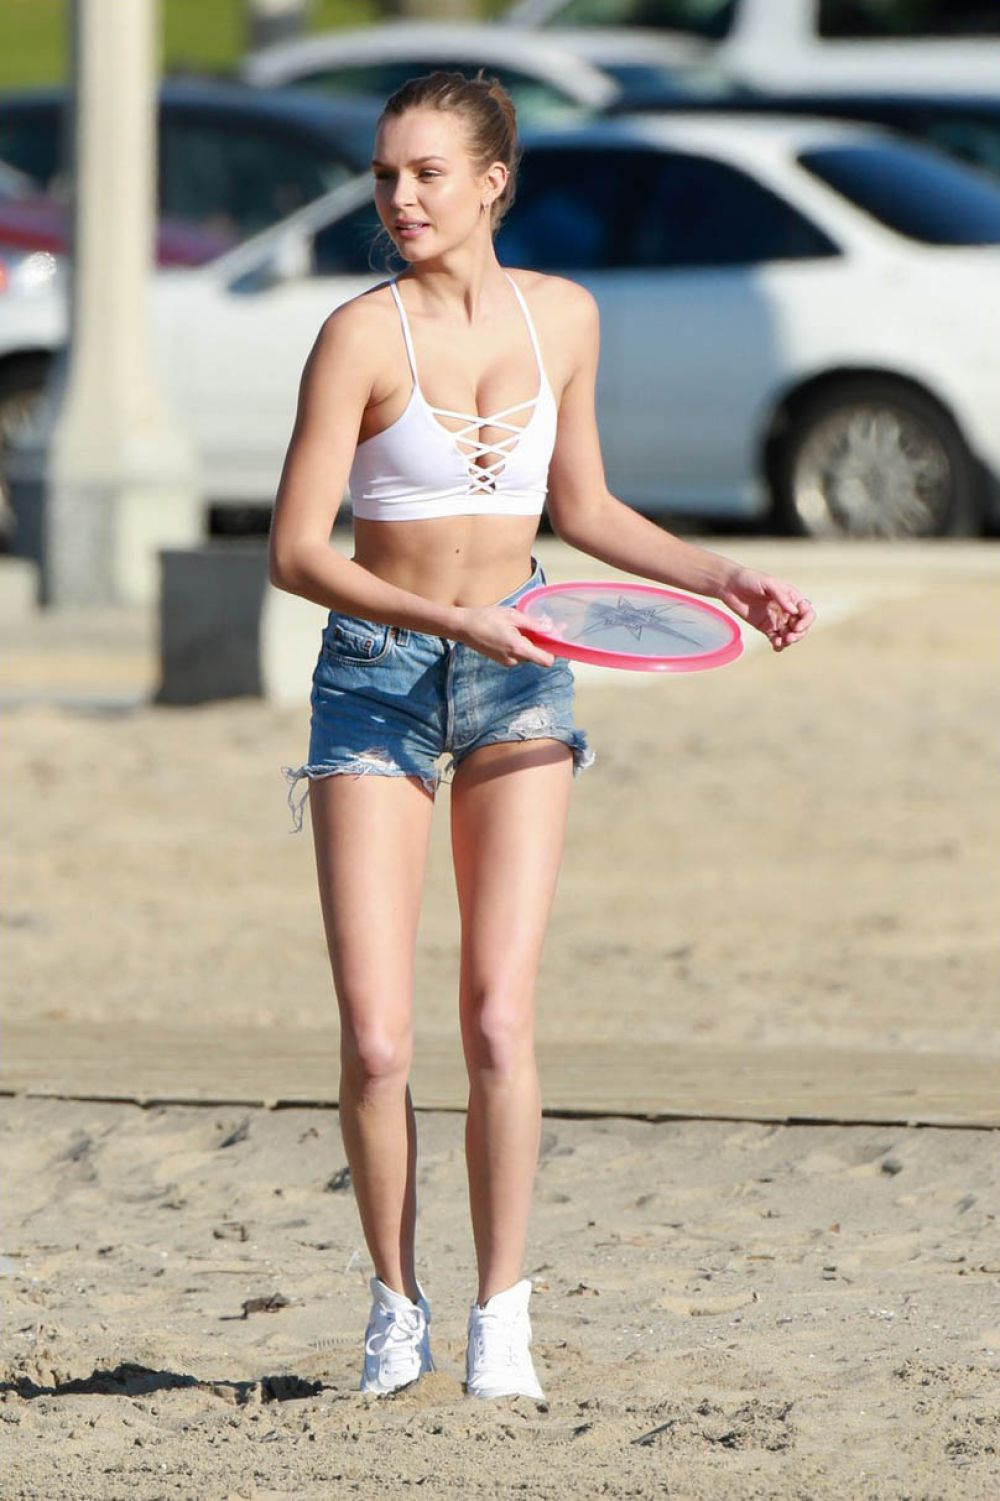Person: (265, 71, 816, 1400)
